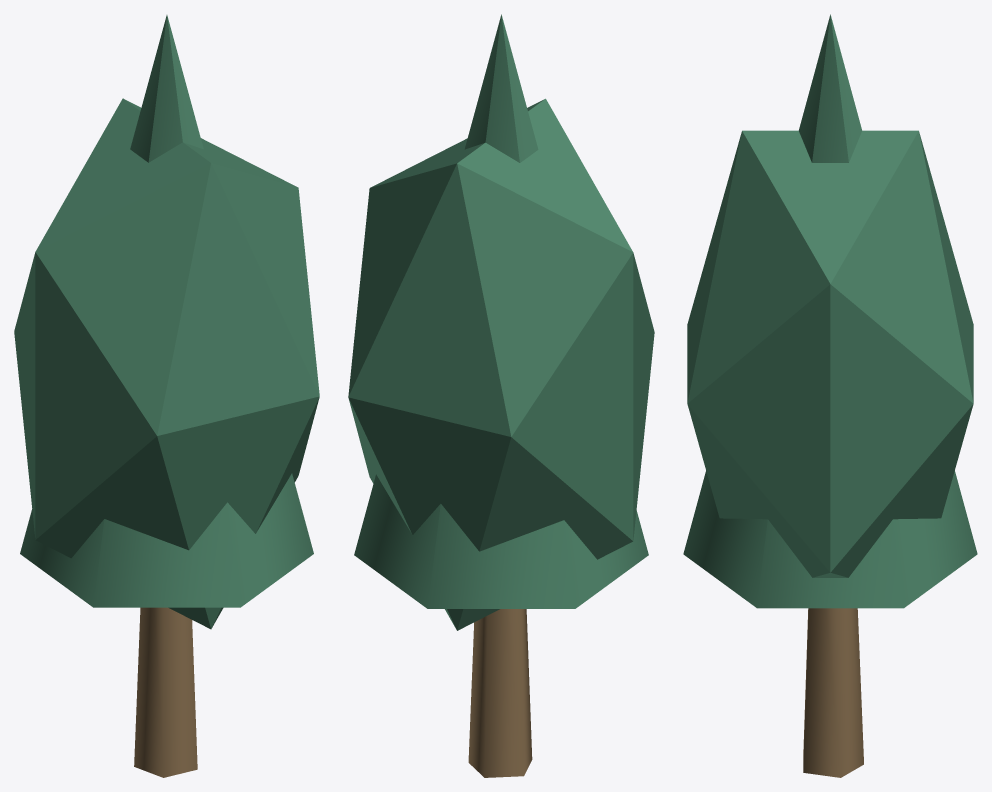
Rendered from Tree_1.glb.
3 renders of one model, left to right at view 1: azimuth 30°, elevation 25°; view 2: azimuth 150°, elevation 25°; view 3: azimuth 270°, elevation 25°, orthographic.
Parts seen in each view (by area): view 1: Tree_1; view 2: Tree_1; view 3: Tree_1.
Part boxes in pixels (<box>): Tree_1: <box>14,15,319,777</box>; Tree_1: <box>348,14,654,777</box>; Tree_1: <box>683,14,977,777</box>.
Size of the model in its own units: 2.89 by 7.88 by 2.8.
